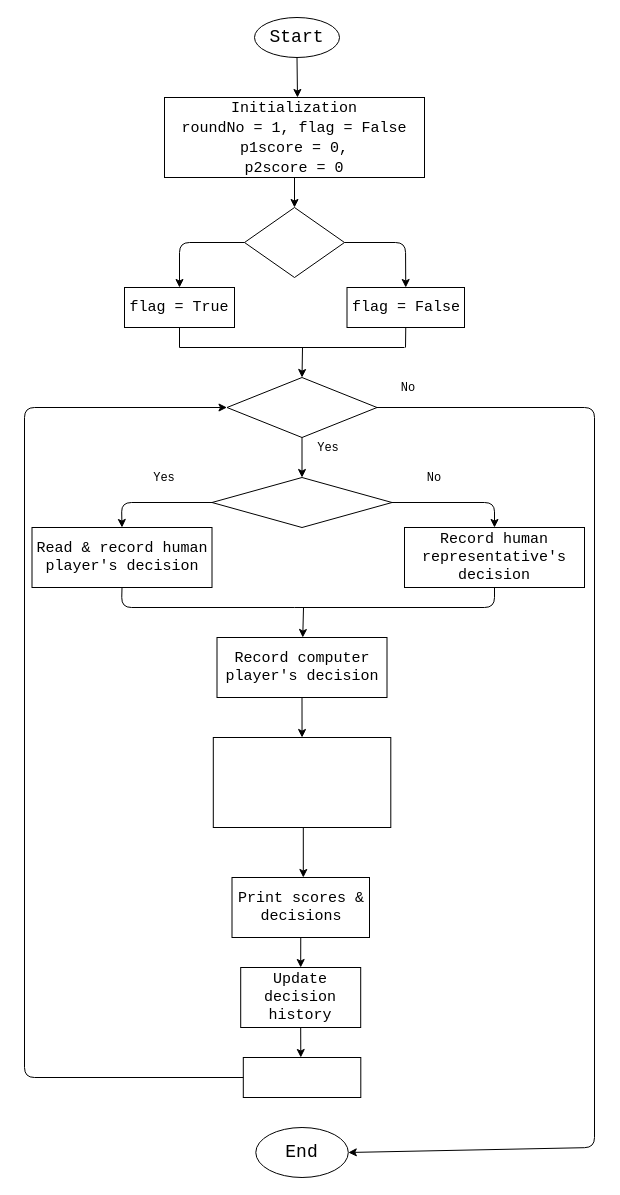
This 620x1195 diagram has some shape labels left out. Each missing label, with the centre of its shape:
"Compute scores for both players based on the payoff matrix" belongs at point 301,782.
"flag == True?" belongs at point 301,502.
"Human player?" belongs at point 294,242.
"roundNo <= 10?" belongs at point 301,407.
"Update roundNo" belongs at point 301,1077.
